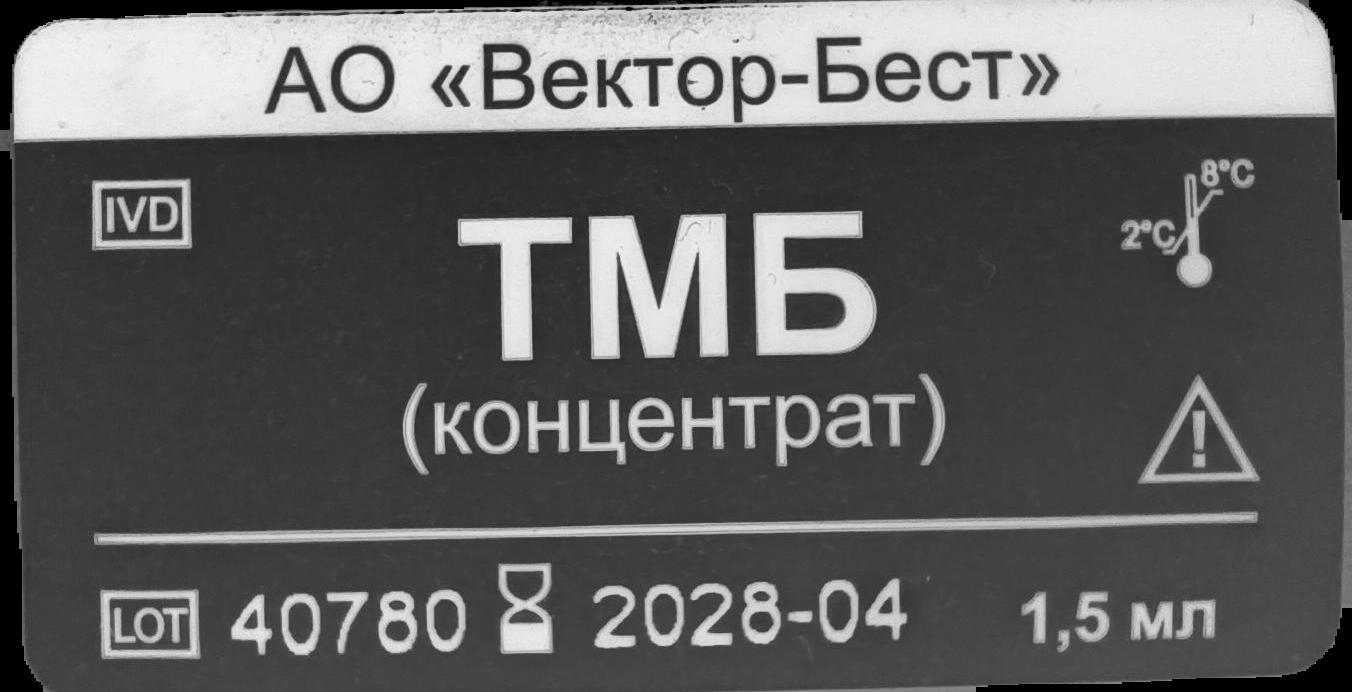something: (1115, 150, 1259, 293), (1136, 367, 1264, 492), (95, 584, 205, 664), (86, 176, 192, 251), (493, 562, 558, 656)
text: (388, 199, 948, 477), (260, 31, 1076, 126), (588, 576, 924, 650), (231, 582, 467, 658), (1016, 581, 1220, 657)
